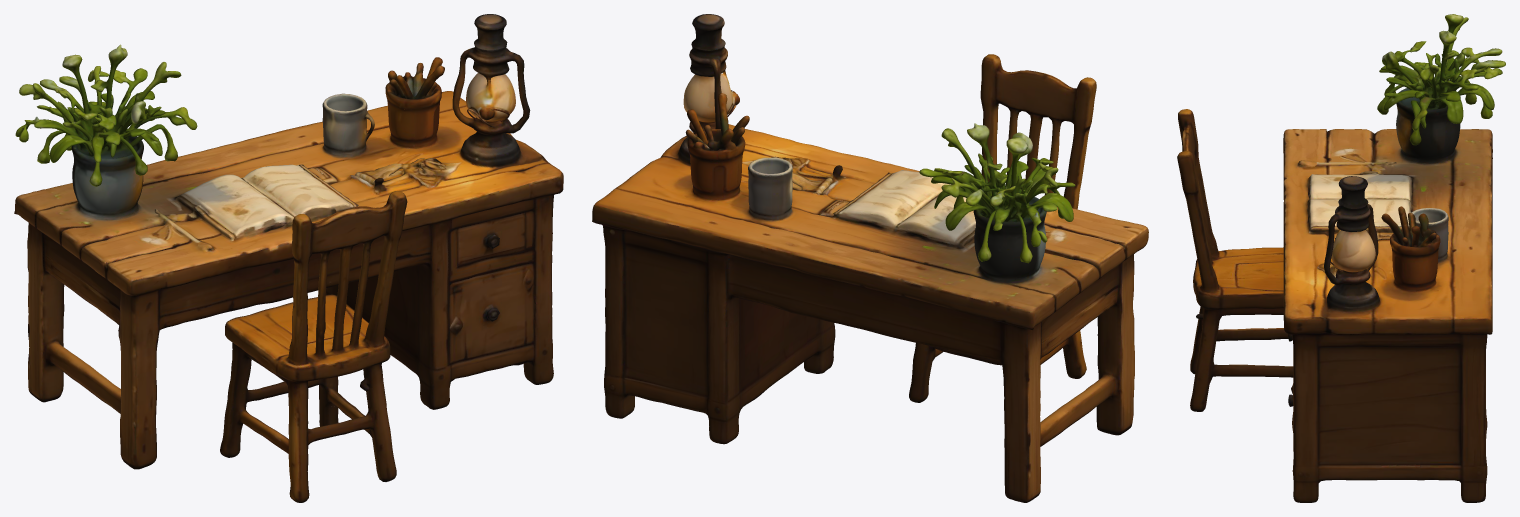
Rendered from work-desk.glb.
3 views of the same model, side by side, from view 1: azimuth 30°, elevation 25°; view 2: azimuth 150°, elevation 25°; view 3: azimuth 270°, elevation 25° (orthographic). The views are drawn at different scales.
Visible parts, largest first — view 1: tripo_node_243c009c; view 2: tripo_node_243c009c; view 3: tripo_node_243c009c.
Part boxes in pixels (x1,y1,x2,y2): tripo_node_243c009c: (14,14,563,502); tripo_node_243c009c: (592,14,1148,502); tripo_node_243c009c: (1177,14,1505,502).
Bounding box in the file's own units: 97.92 × 76.13 × 69.71.
1 material, 1 textured.
